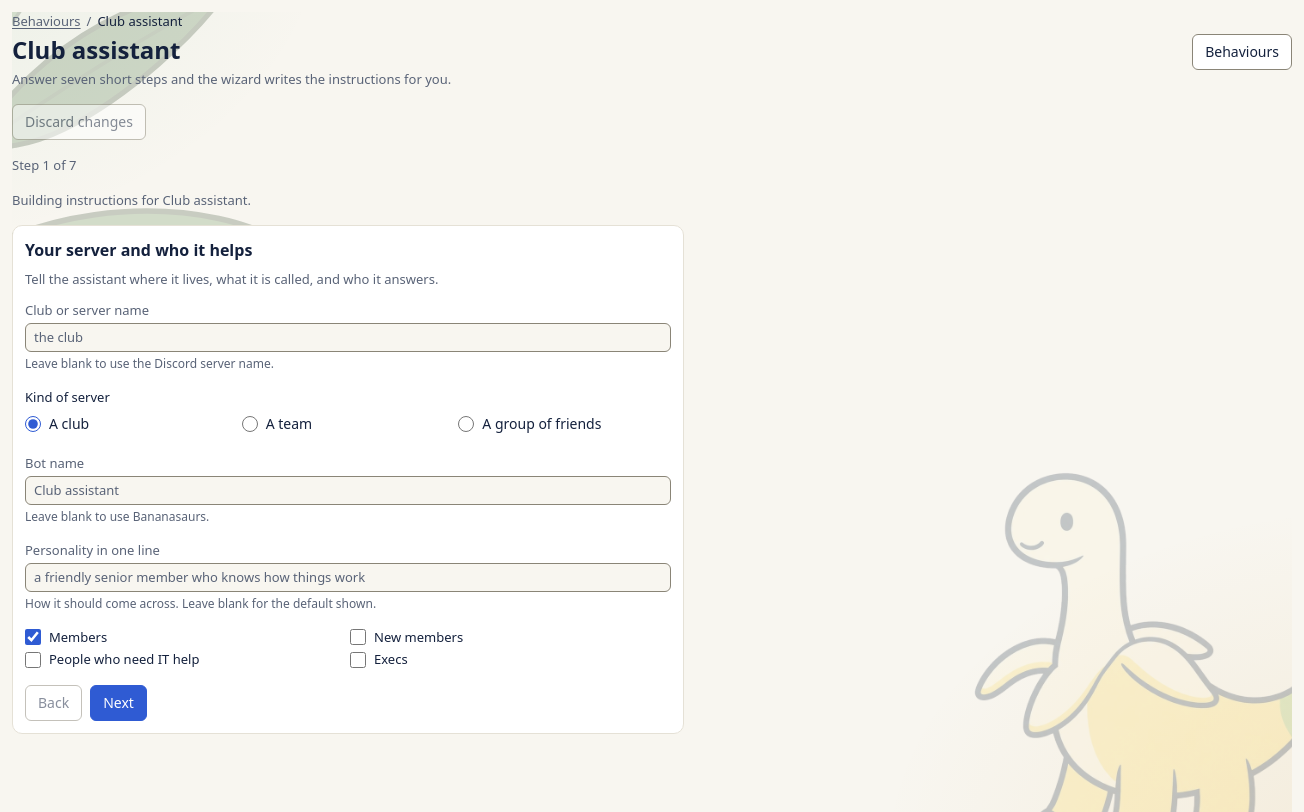
Scenario: AssistantPromptWizardPage › picking friends relaxes a default tone to casual
Step 1. Click the radio button labelled "A group of friends" → click(466, 424), box [458,416,474,432]
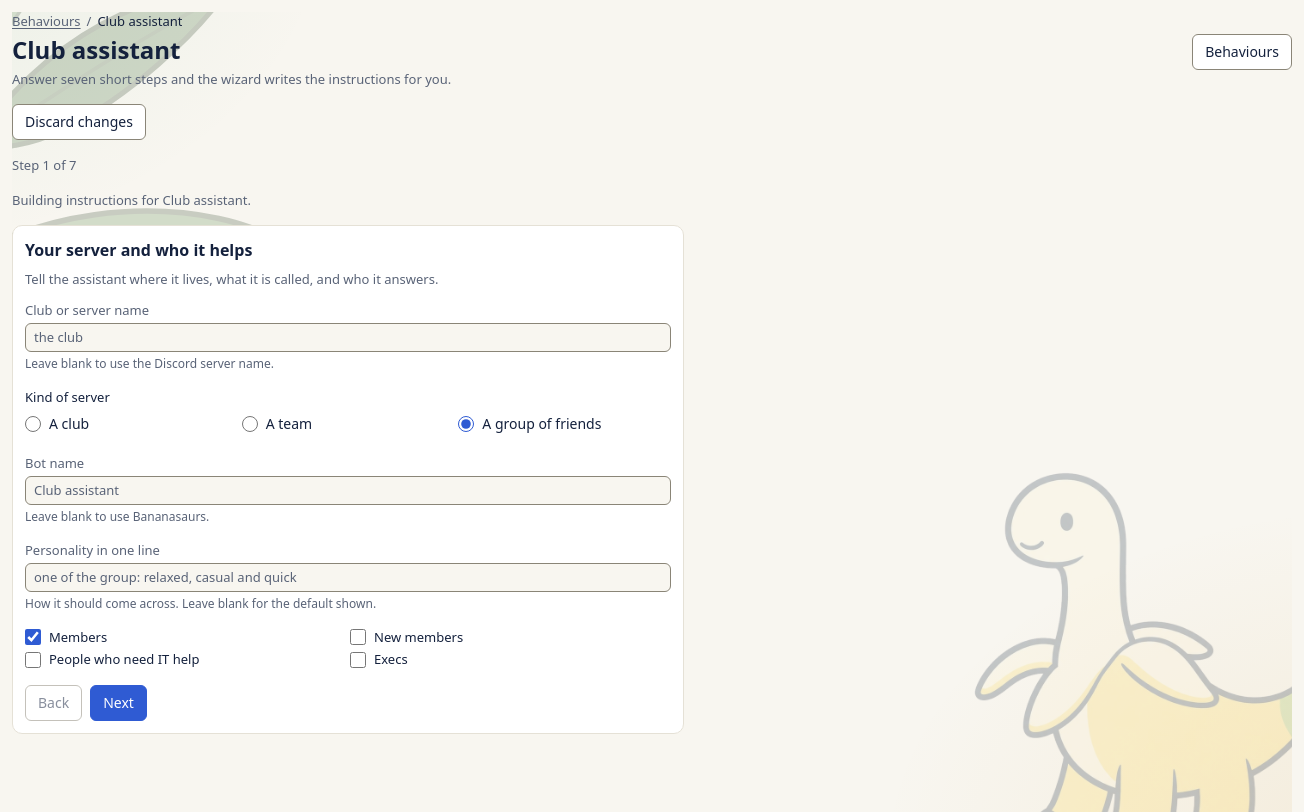
Step 2. Click the button "Next" → click(119, 703), box [90,685,147,721]
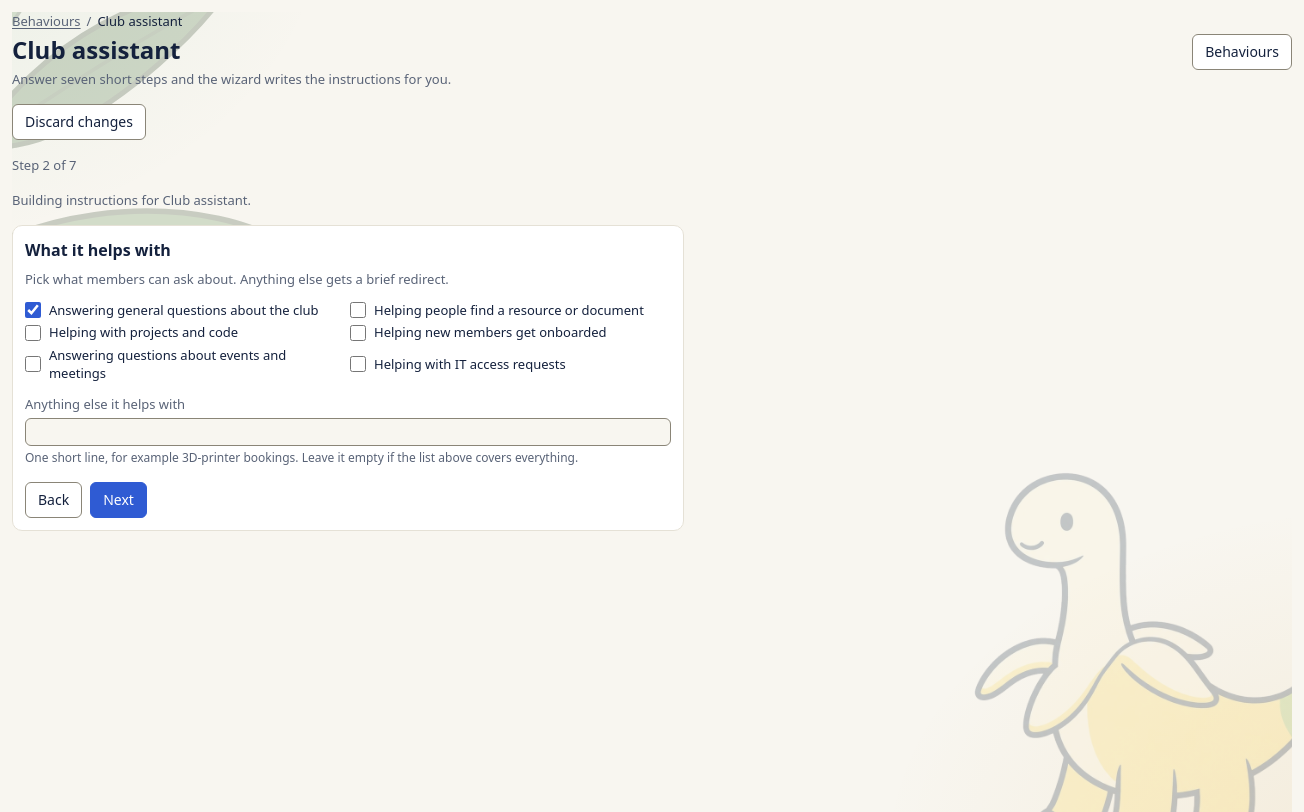
Step 3. Click the button "Next" → click(119, 500), box [90,482,147,518]
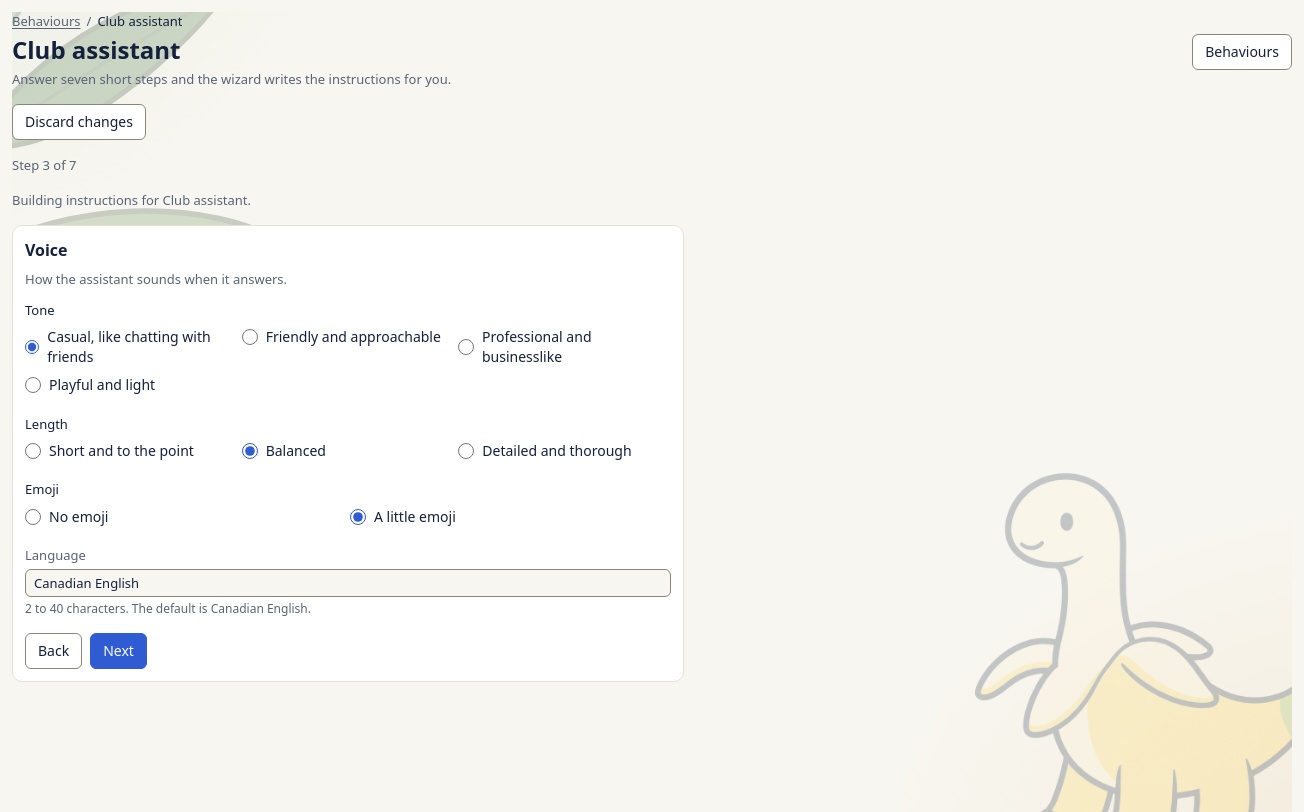
Now the radio button labelled "Casual, like chatting with friends" is checked, box [25,339,39,355]
